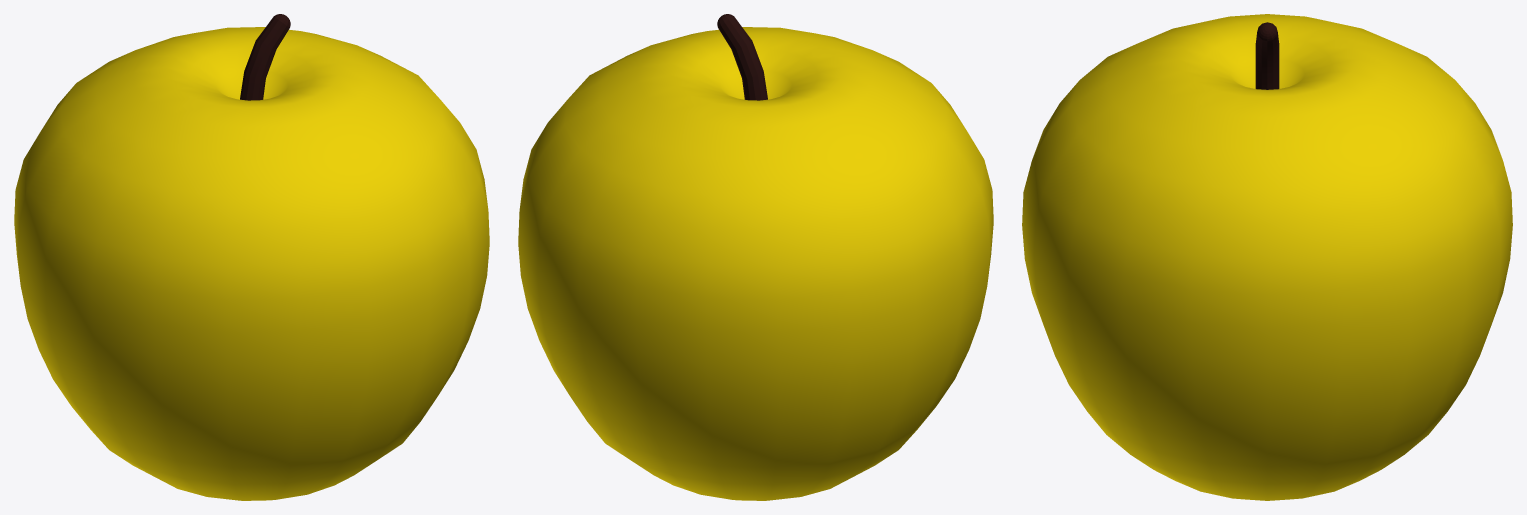
File: Fruit_Awake.fbx
The picture shows the model from 3 angles, left to right: view 1: azimuth 30°, elevation 25°; view 2: azimuth 150°, elevation 25°; view 3: azimuth 270°, elevation 25°; orthographic projection. The views are drawn at different scales.
Visible parts, largest first — view 1: Fruit_main, Fruit_top1; view 2: Fruit_main, Fruit_top1; view 3: Fruit_main, Fruit_top1.
Boxes of the visible parts, left/top/right/bottom form: Fruit_main: left=14, top=27, right=489, bottom=500; Fruit_top1: left=240, top=14, right=290, bottom=100; Fruit_main: left=518, top=27, right=993, bottom=500; Fruit_top1: left=717, top=14, right=767, bottom=100; Fruit_main: left=1022, top=14, right=1512, bottom=500; Fruit_top1: left=1255, top=22, right=1279, bottom=89.
Size of the model in its own units: 8.2 by 8.53 by 8.2.
